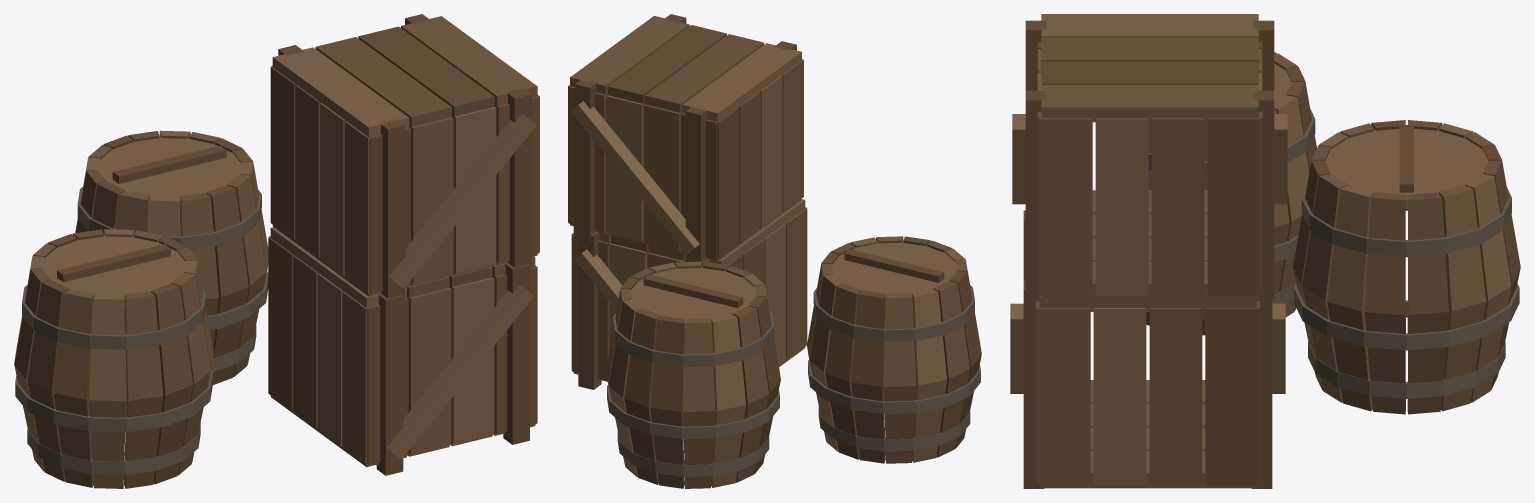
Rendered from harbor_cargo.glb.
3 views of the same model, side by side, from view 1: azimuth 30°, elevation 25°; view 2: azimuth 150°, elevation 25°; view 3: azimuth 270°, elevation 25° (orthographic). The views are drawn at different scales.
Parts seen in each view (by area): view 1: harbor_cargo_Harbor oak plank 2, harbor_cargo_Harbor oak plank 0, harbor_cargo_Harbor oak plank 1, harbor_cargo_Harbor oak plank 3, harbor_cargo_Keeper dark forged bronze; view 2: harbor_cargo_Harbor oak plank 2, harbor_cargo_Harbor oak plank 0, harbor_cargo_Harbor oak plank 3, harbor_cargo_Harbor oak plank 1, harbor_cargo_Keeper dark forged bronze; view 3: harbor_cargo_Harbor oak plank 2, harbor_cargo_Harbor oak plank 0, harbor_cargo_Harbor oak plank 1, harbor_cargo_Harbor oak plank 3, harbor_cargo_Keeper dark forged bronze.
Boxes of the visible parts, x1,y1,x2,y2 form: harbor_cargo_Harbor oak plank 2: (14, 47, 536, 488); harbor_cargo_Harbor oak plank 0: (27, 14, 532, 484); harbor_cargo_Harbor oak plank 1: (33, 16, 539, 487); harbor_cargo_Harbor oak plank 3: (14, 37, 539, 488); harbor_cargo_Keeper dark forged bronze: (15, 187, 268, 475); harbor_cargo_Harbor oak plank 2: (571, 43, 965, 487); harbor_cargo_Harbor oak plank 0: (568, 14, 981, 488); harbor_cargo_Harbor oak plank 3: (568, 34, 969, 484); harbor_cargo_Harbor oak plank 1: (570, 16, 981, 488); harbor_cargo_Keeper dark forged bronze: (607, 285, 980, 476); harbor_cargo_Harbor oak plank 2: (1010, 14, 1511, 485); harbor_cargo_Harbor oak plank 0: (1023, 20, 1520, 488); harbor_cargo_Harbor oak plank 1: (1037, 49, 1494, 488); harbor_cargo_Harbor oak plank 3: (1035, 37, 1520, 485); harbor_cargo_Keeper dark forged bronze: (1148, 108, 1519, 398).
Size of the model in its own units: 2.76 by 2.08 by 2.46.
